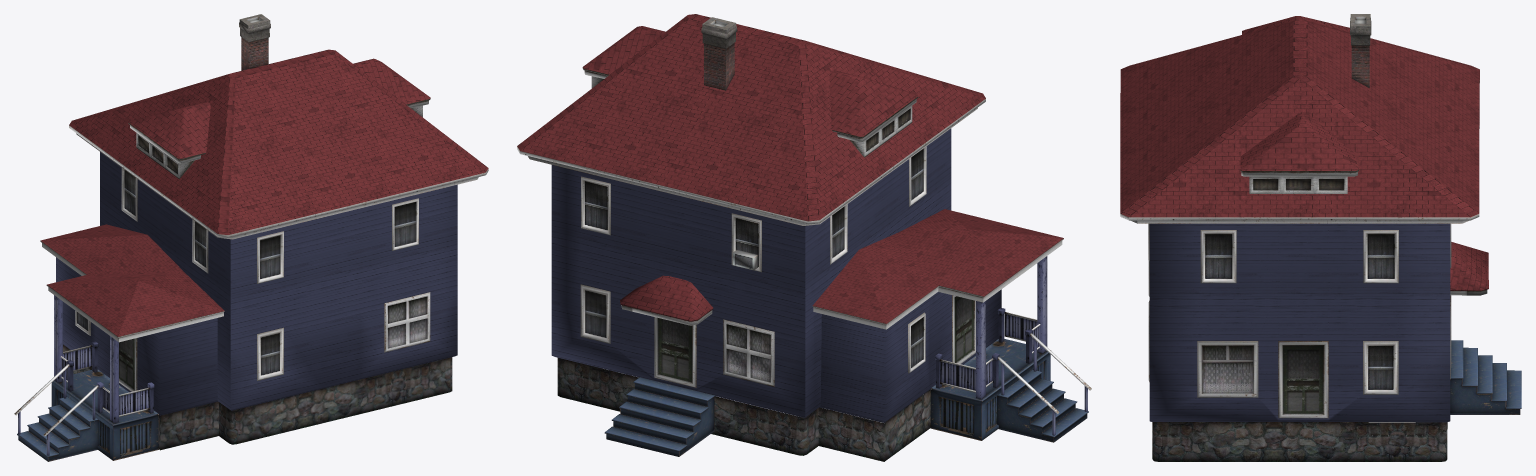
The model's file is casaAzul.obj.
3 renders of one model, left to right at view 1: azimuth 30°, elevation 25°; view 2: azimuth 150°, elevation 25°; view 3: azimuth 270°, elevation 25°, orthographic. The views are drawn at different scales.
Visible parts, largest first — view 1: house; view 2: house; view 3: house.
Part boxes in pixels (box(x1,y1,x2,y2)): house: box(14, 14, 488, 461); house: box(517, 14, 1091, 461); house: box(1120, 14, 1521, 461).
Bounding box in the file's own units: 124 × 97.6 × 93.13.
3 materials, 3 textured.
